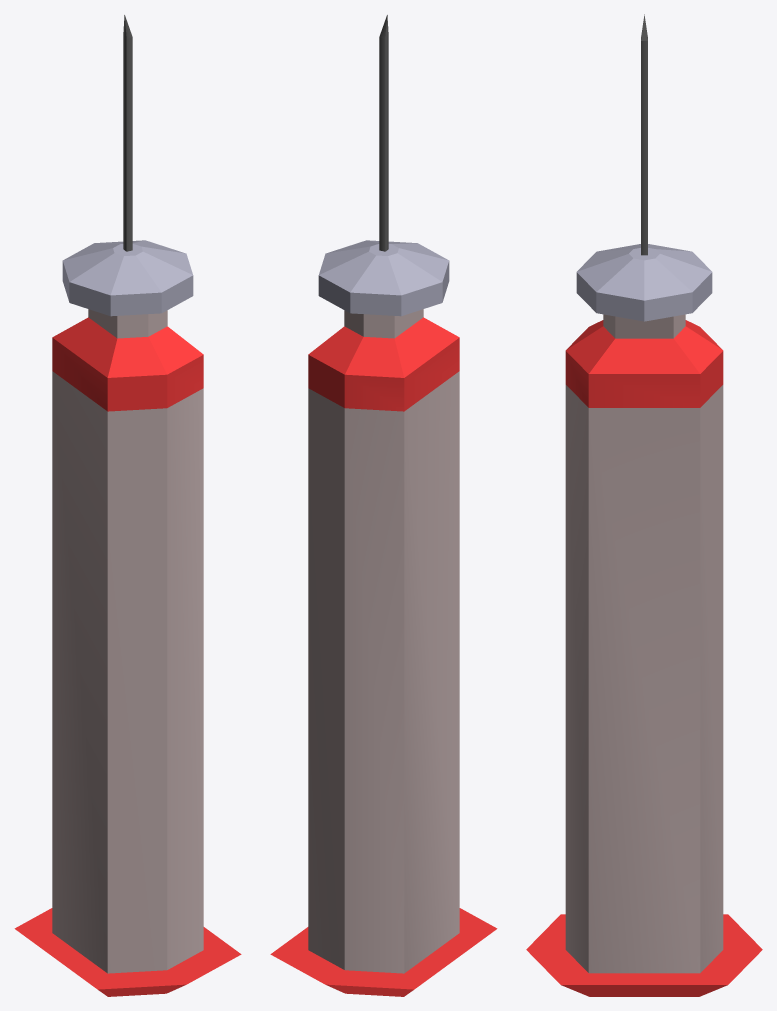
The model's file is Syringe.fbx.
3 renders of one model, left to right at view 1: azimuth 30°, elevation 25°; view 2: azimuth 150°, elevation 25°; view 3: azimuth 270°, elevation 25°, orthographic.
Parts seen in each view (by area): view 1: Cylinder; view 2: Cylinder; view 3: Cylinder.
Part boxes in pixels (x1,y1,x2,y2): Cylinder: [14, 15, 241, 996]; Cylinder: [270, 15, 497, 996]; Cylinder: [526, 14, 762, 996].
Size of the model in its own units: 2.24 by 14.16 by 3.17.
